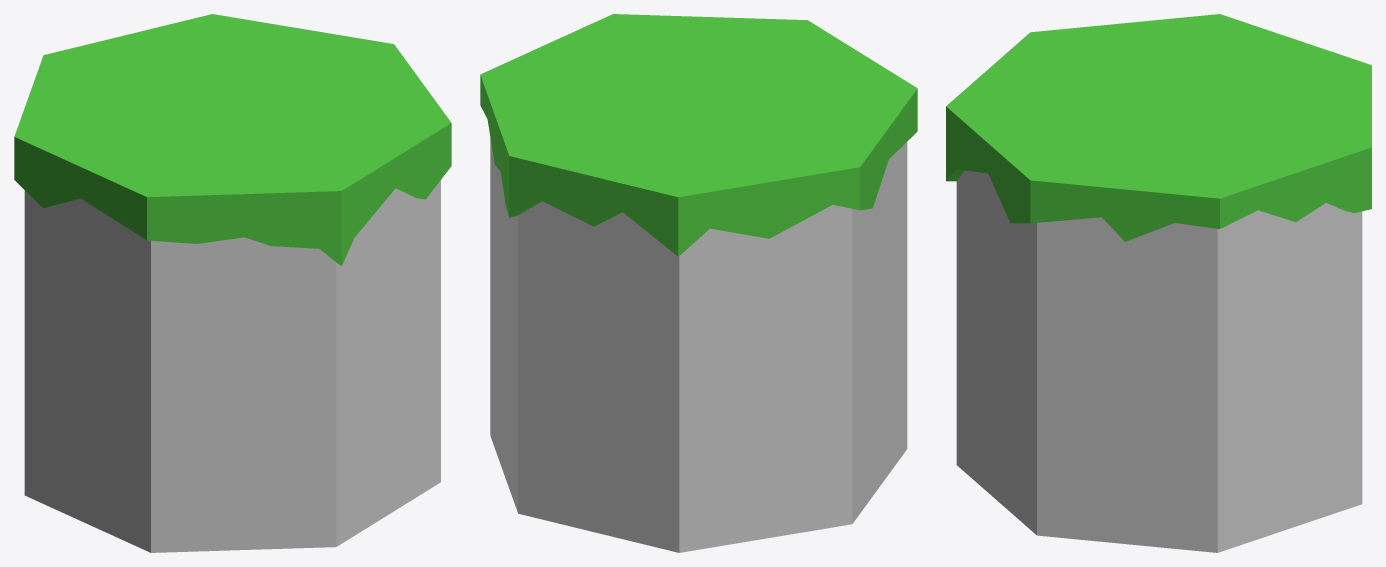
The model's file is world_block_01.fbx.
3 views of the same model, side by side, from view 1: azimuth 30°, elevation 25°; view 2: azimuth 150°, elevation 25°; view 3: azimuth 270°, elevation 25° (orthographic).
Parts seen in each view (by area): view 1: Cylinder; view 2: Cylinder; view 3: Cylinder.
Boxes of the visible parts, bbox=[...] form: Cylinder: bbox=[14, 14, 451, 552]; Cylinder: bbox=[480, 14, 917, 552]; Cylinder: bbox=[946, 14, 1371, 552].
Bounding box in the file's own units: 636 × 576 × 620.
